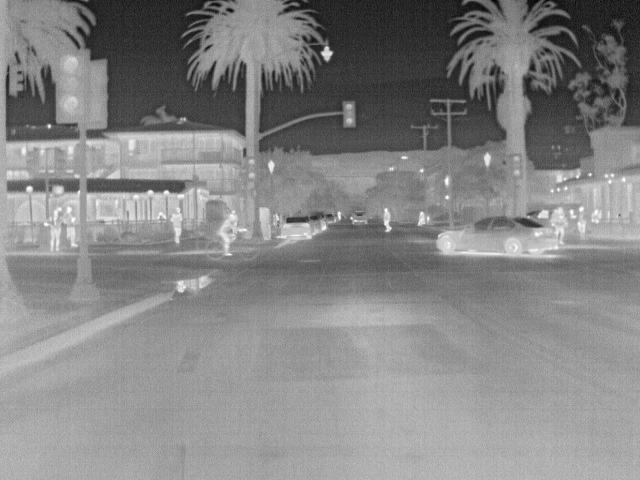car: (434, 214, 561, 257), (279, 215, 311, 240), (309, 208, 328, 230), (351, 210, 369, 227), (306, 214, 322, 232), (324, 213, 337, 224)
person: (219, 210, 240, 257), (59, 206, 79, 250), (47, 204, 65, 252), (549, 206, 568, 244), (169, 206, 183, 247), (576, 204, 588, 238), (383, 204, 396, 232), (416, 210, 429, 227)
